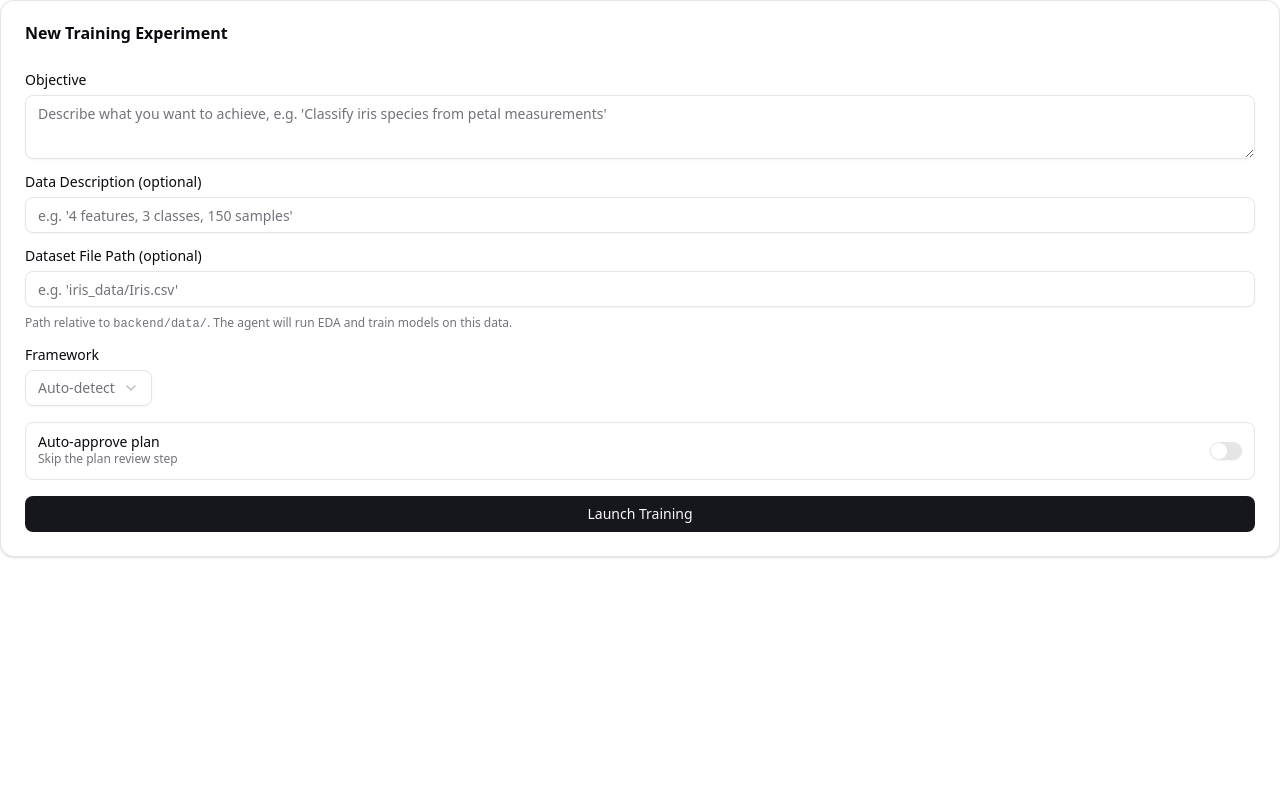
ObjectiveForm › shows validation error when objective is too short
In the text box labelled "Objective": coordinates (640, 127) [25,95,1255,159], type "short"
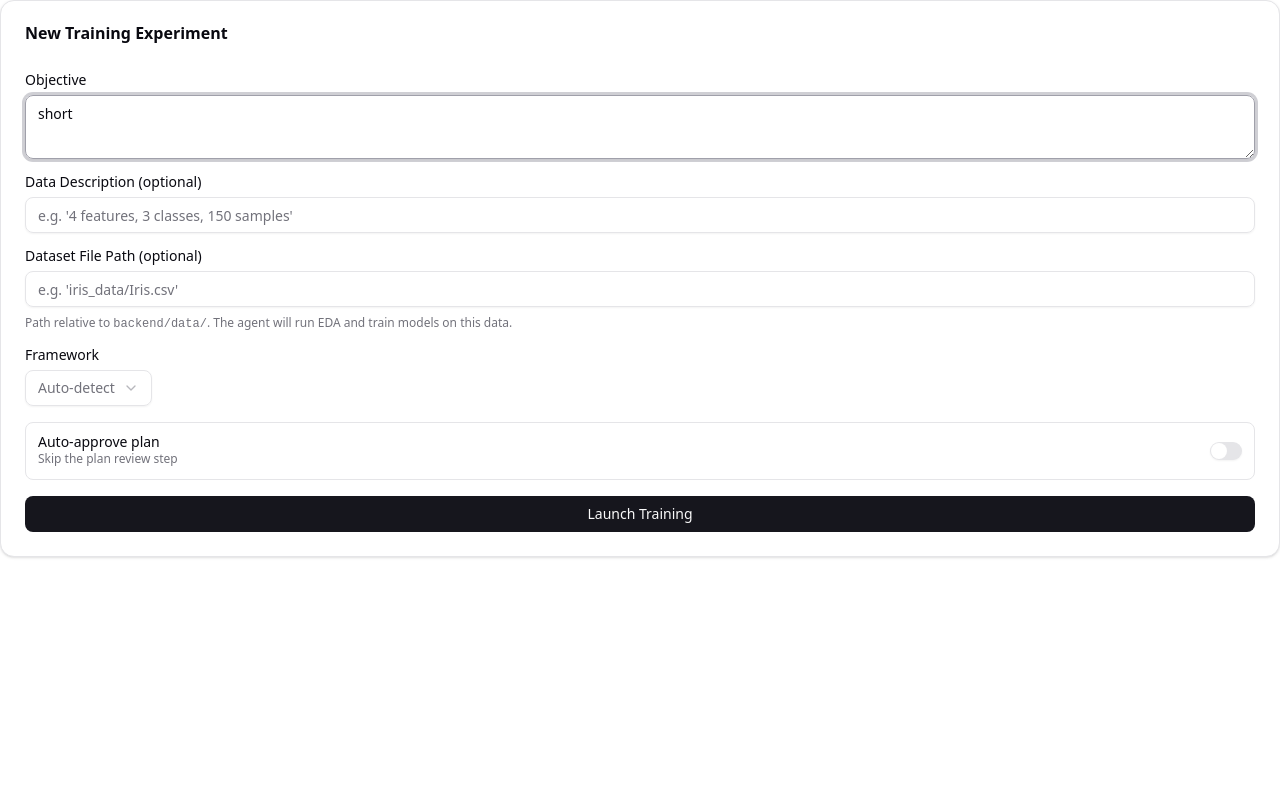
Submit the form from the button "Launch Training", box [25,496,1255,532]
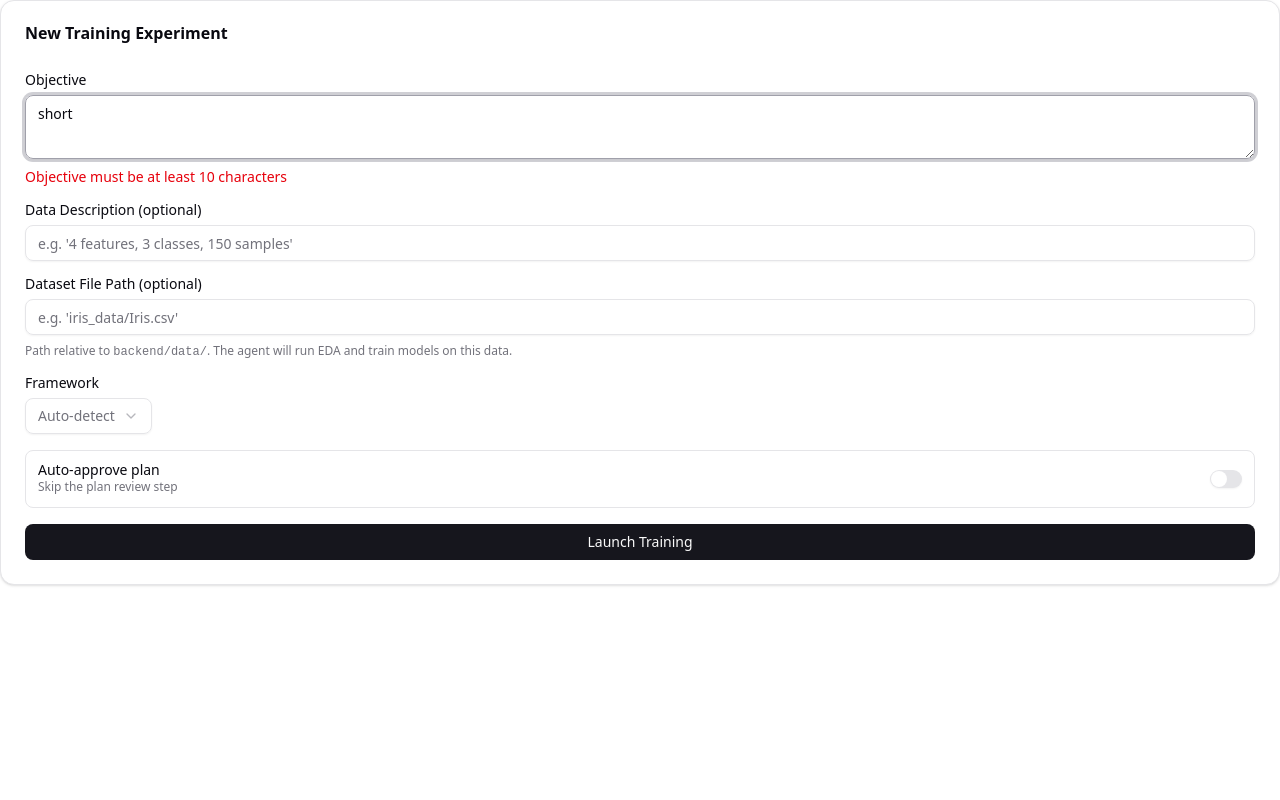
Expected: the text "Objective must be at least 10 characters" is shown, [25,167,287,186]
